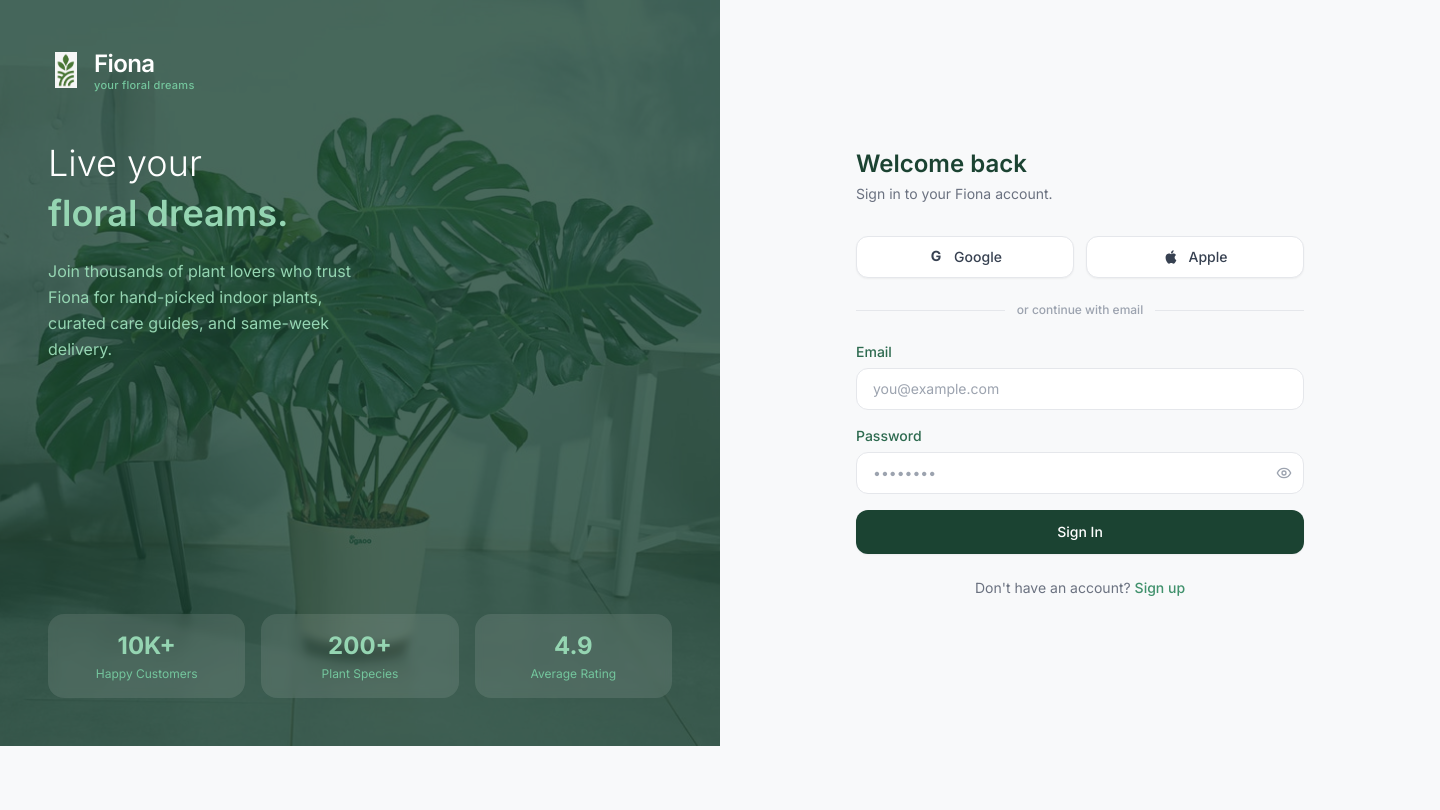
Test case: Authentication & Security Boundary Exceptions - AuthPage.tsx › EX-AUTH-02: Login / Register with offline network during submission › catches network offline failure during Login, displays user-friendly message, and preserves inputs
Type "user@example.com" into the field with placeholder "you@example.com" at (1080, 389), box [856,368,1304,410]
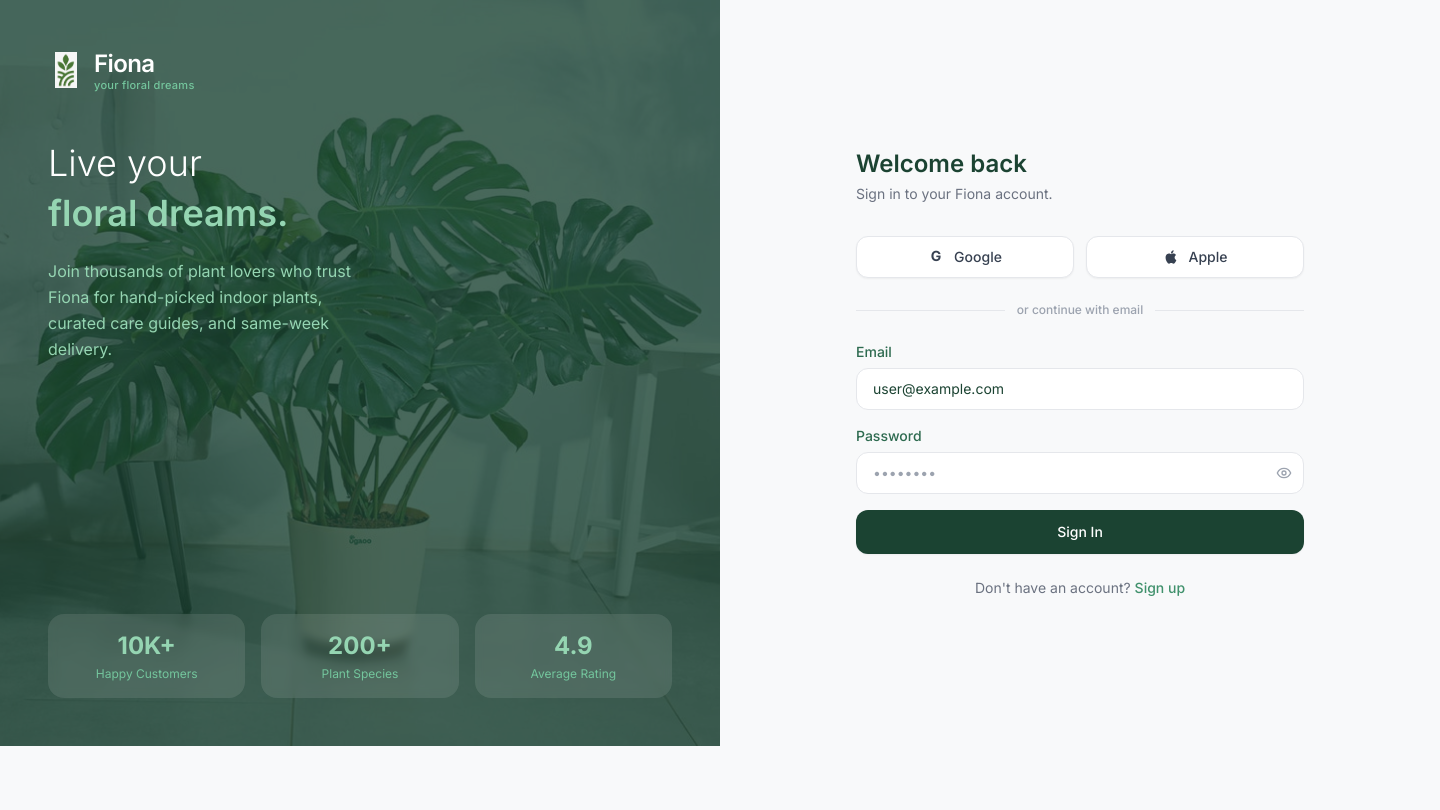
Type "securepassword123" into the password field with placeholder "••••••••" at (1080, 473), box [856,452,1304,494]
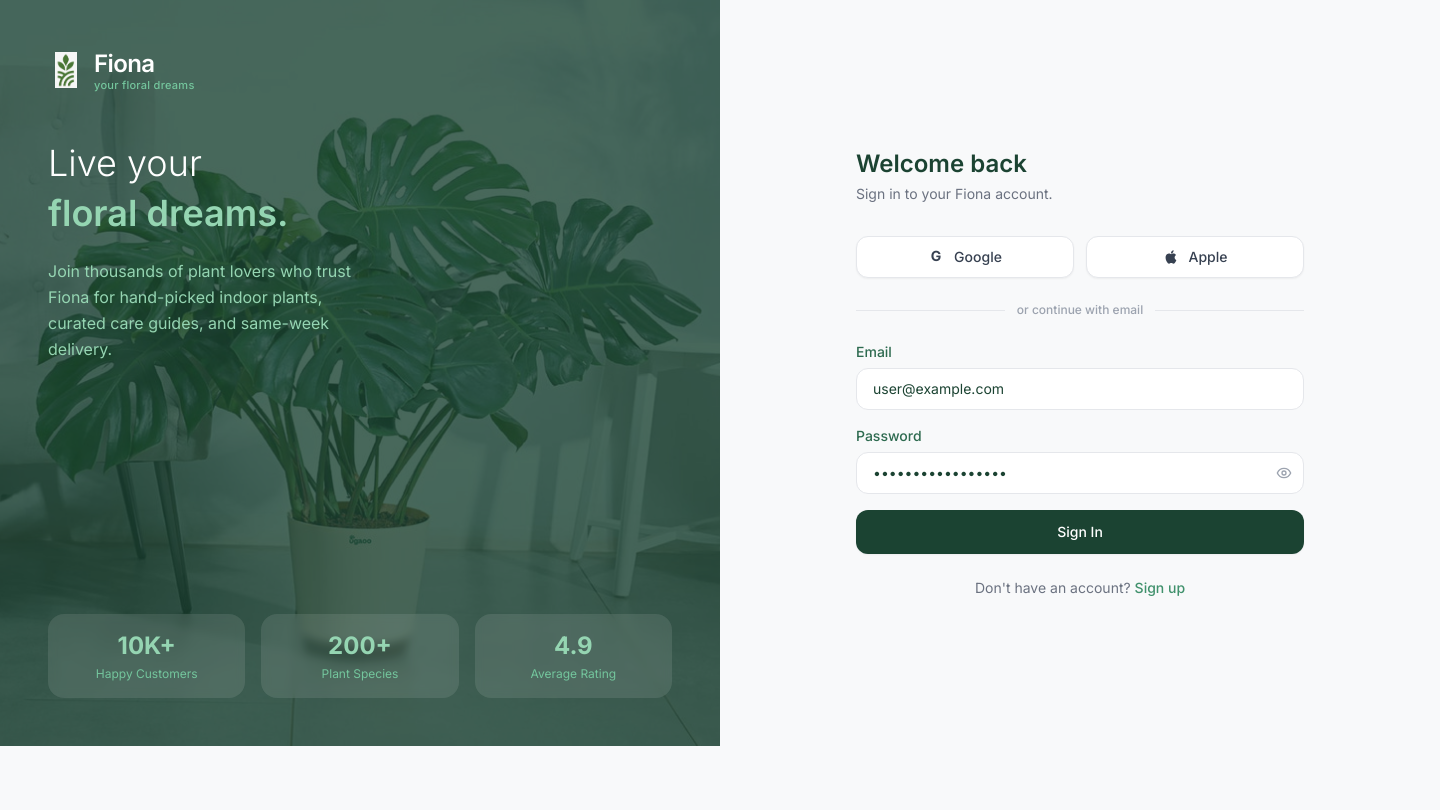
Click the button "Sign In" at (1080, 532), box [856,510,1304,554]
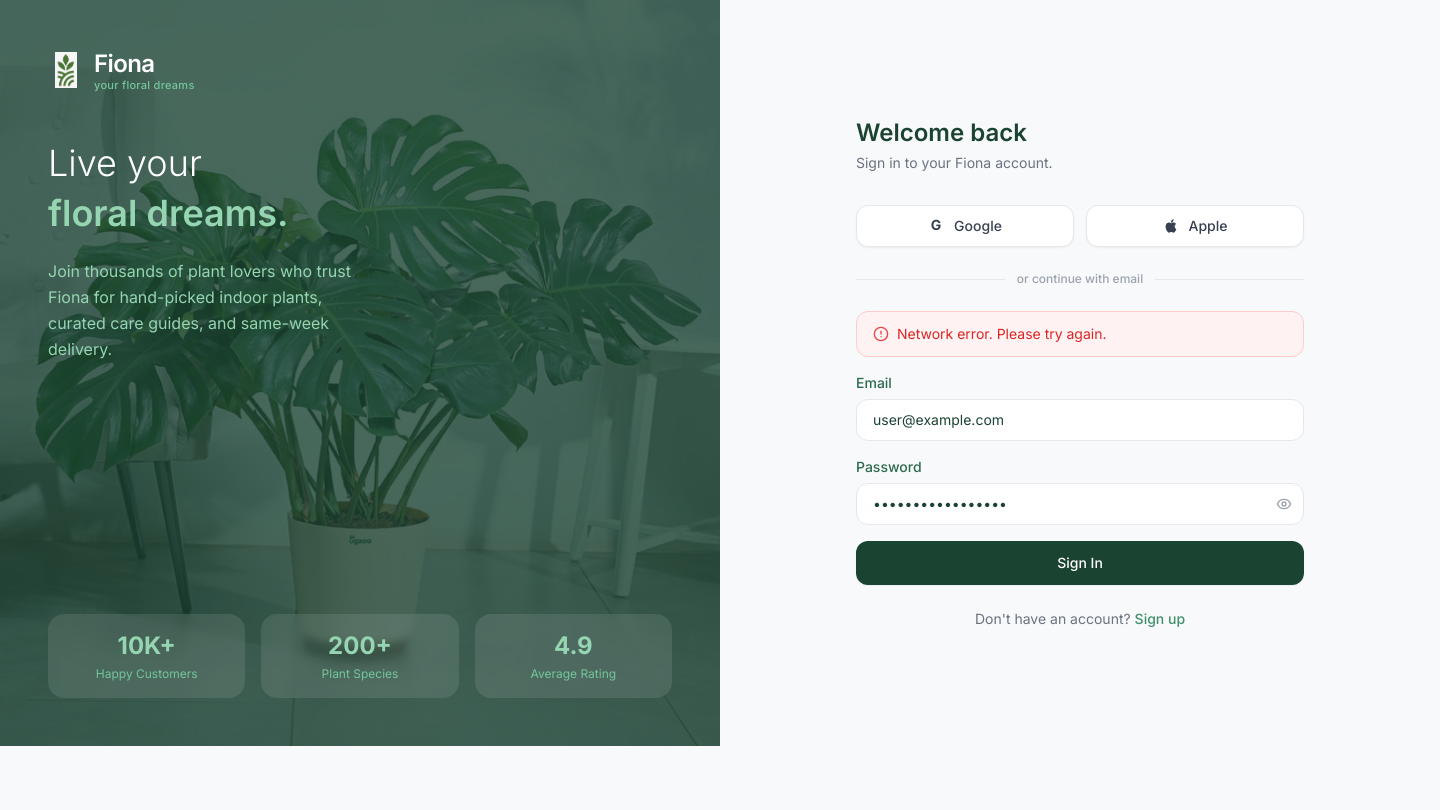
Expected: the button "Sign In" is enabled, [856,541,1304,585]
Result: the message "Network error. Please try again." is shown at [856,311,1304,357]
Result: the text "Network error. Please try again." is shown at [897,324,1106,344]
